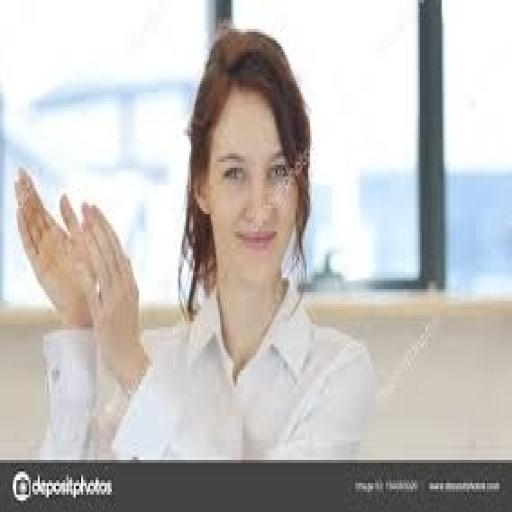clapping: (12, 23, 378, 460)
